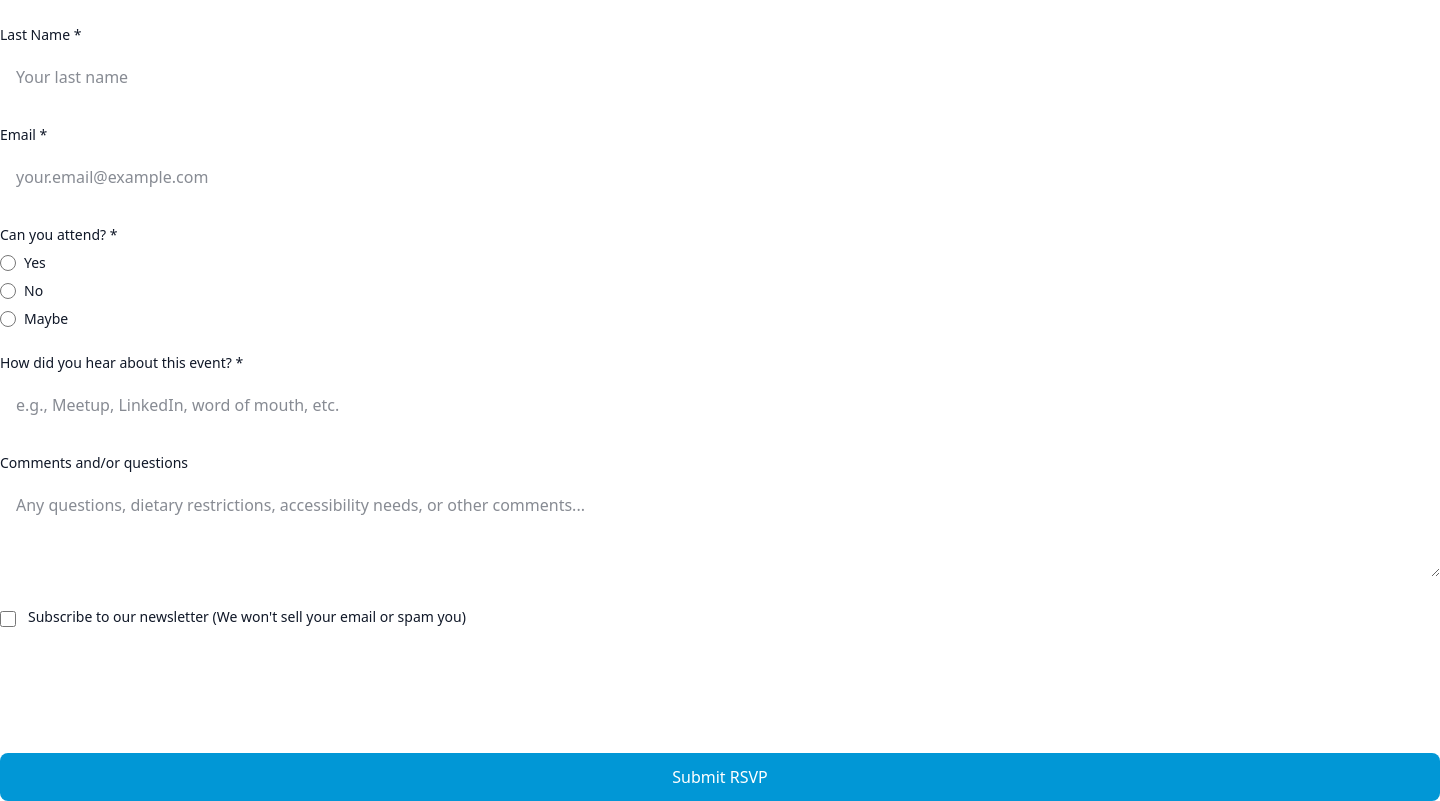
Test: RSVPForm › blocks submission and shows validation errors when required fields are empty
(page scrolled)
Click the button "Submit RSVP". click: (720,777)
box: [0, 753, 1439, 800]
(page scrolled)
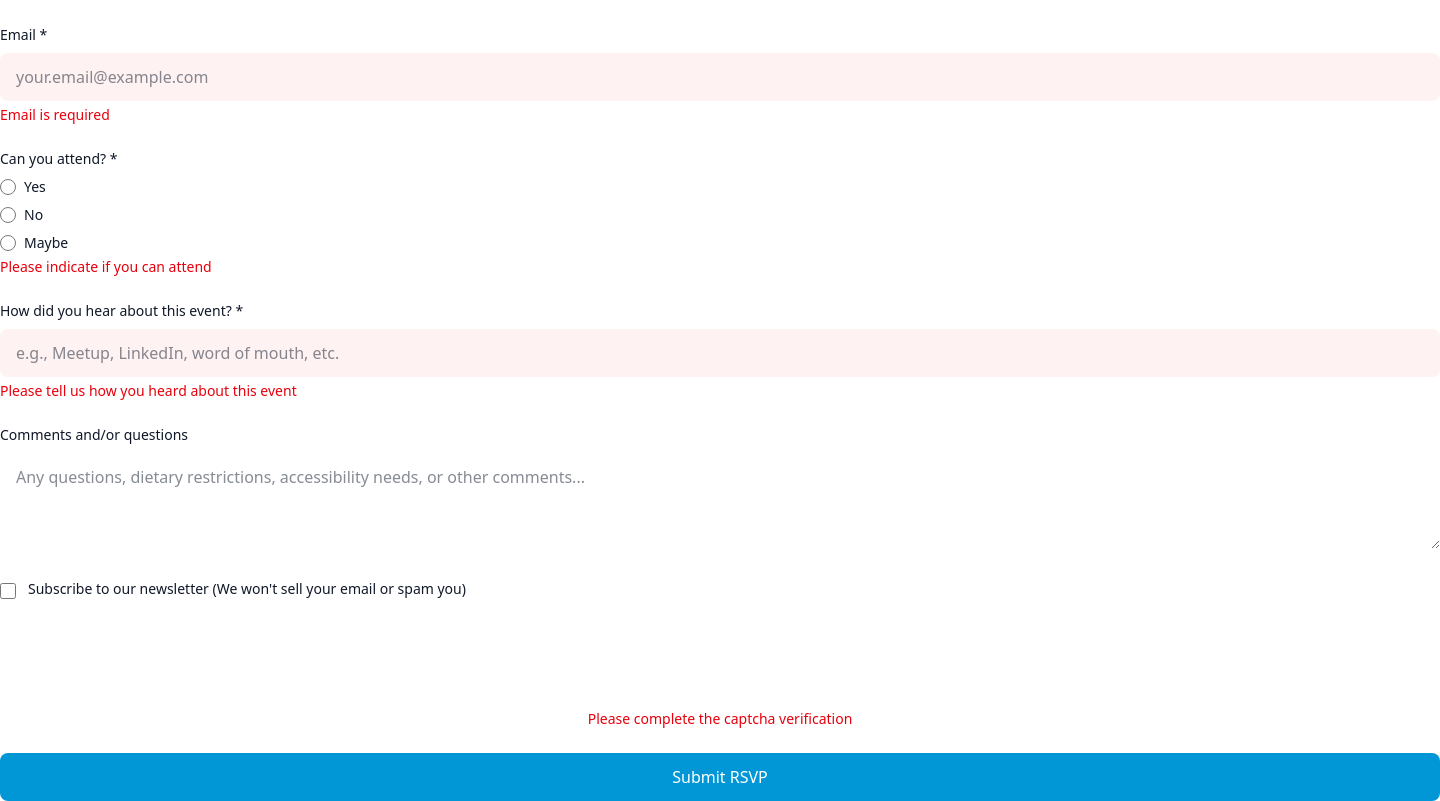
Now the text "Please indicate if you can attend" is shown, box [0, 257, 212, 276]
Now the text "Please complete the captcha verification" is shown, box [588, 709, 852, 728]
